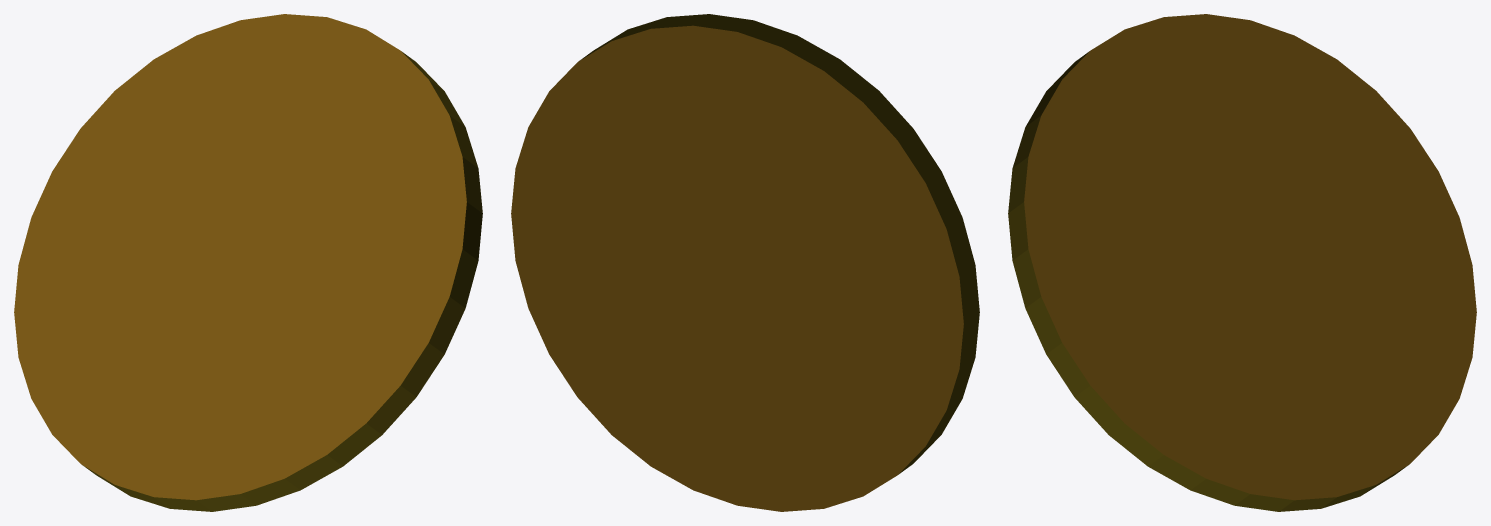
File: coin1.obj
3 views of the same model, side by side, from view 1: azimuth 30°, elevation 25°; view 2: azimuth 150°, elevation 25°; view 3: azimuth 330°, elevation 25° (orthographic).
Visible parts, largest first — view 1: Circle.001, Circle; view 2: Circle.001, Circle; view 3: Circle.001, Circle.
Boxes of the visible parts, <box> form: Circle.001: <box>14,14,466,500</box>; Circle: <box>82,51,482,511</box>; Circle.001: <box>511,25,963,511</box>; Circle: <box>579,14,979,474</box>; Circle.001: <box>1024,14,1476,500</box>; Circle: <box>1008,51,1408,511</box>.
Bounding box in the file's own units: 2 × 2 × 0.1224.
